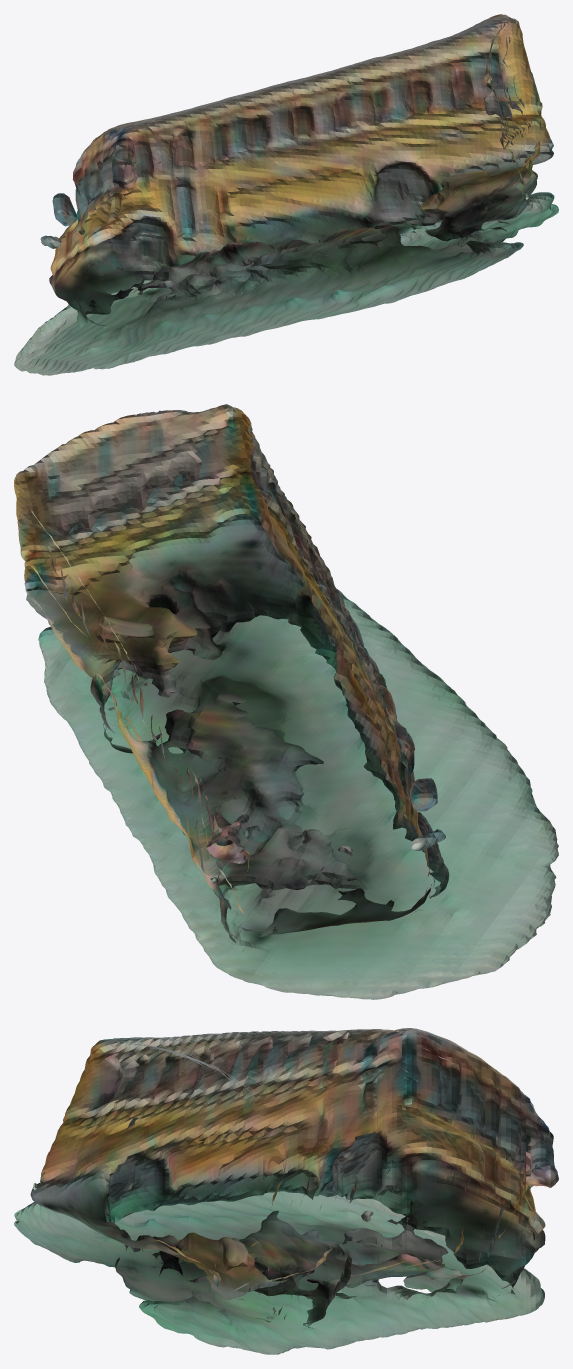
3 views of the same model, one above another, from view 1: azimuth 30°, elevation 25°; view 2: azimuth 150°, elevation 25°; view 3: azimuth 270°, elevation 25° (orthographic). The views are drawn at different scales.
Parts seen in each view (by area): view 1: geometry_0; view 2: geometry_0; view 3: geometry_0.
Boxes of the visible parts, x1=… form: geometry_0: x1=14, y1=14, x2=558, y2=375; geometry_0: x1=14, y1=404, x2=558, y2=999; geometry_0: x1=14, y1=1028, x2=558, y2=1354.
Size of the model in its own units: 1.6 by 1.03 by 1.3.
